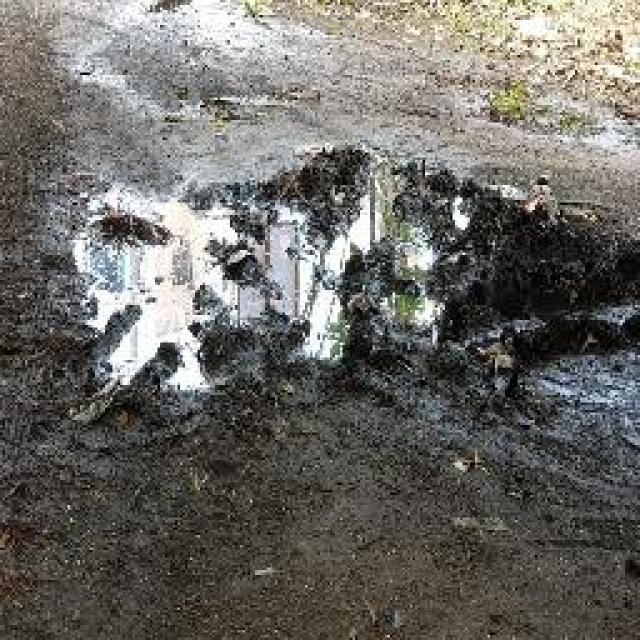stagnation: (31, 147, 635, 426)
